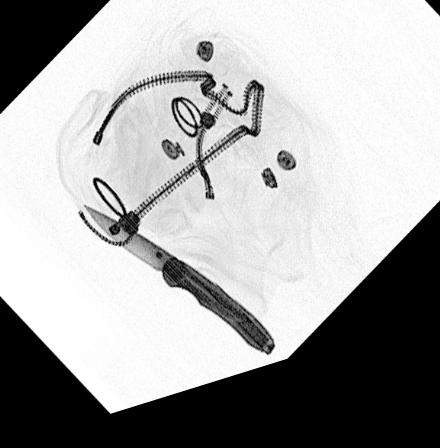Knife: (78, 206, 276, 371)
